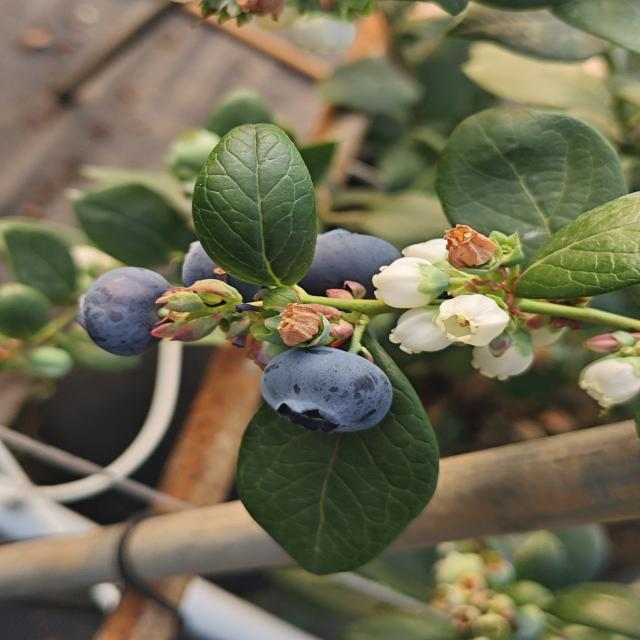ripe: (256, 343, 396, 436), (175, 227, 278, 320), (75, 265, 175, 359), (296, 227, 404, 301)
